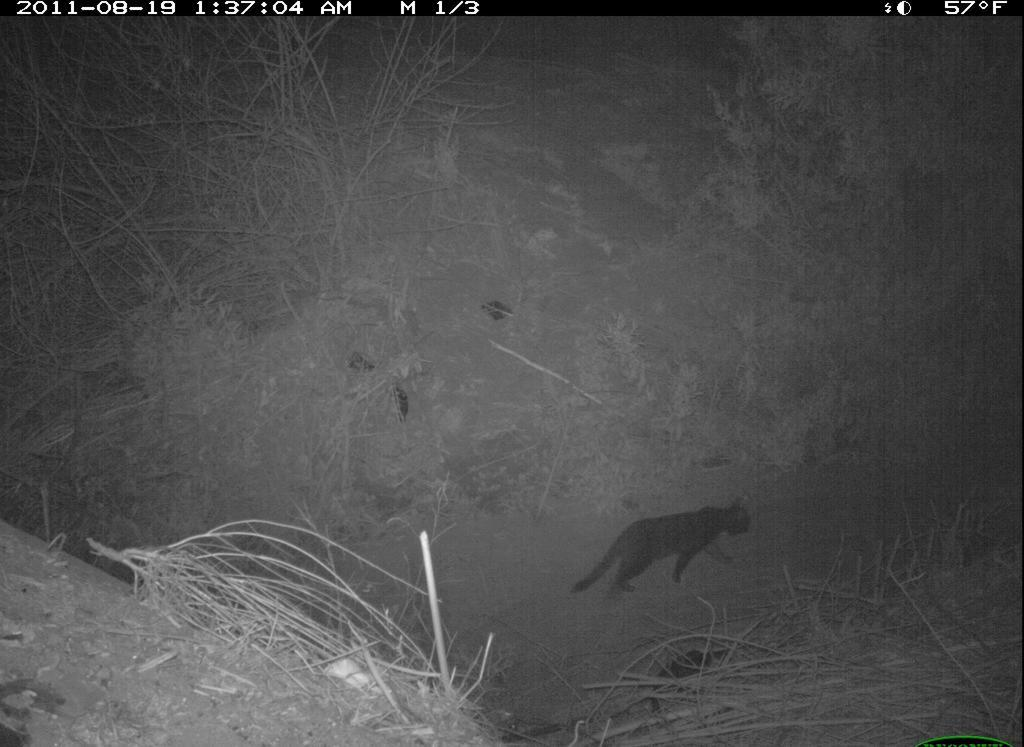cat: (562, 483, 767, 603)
